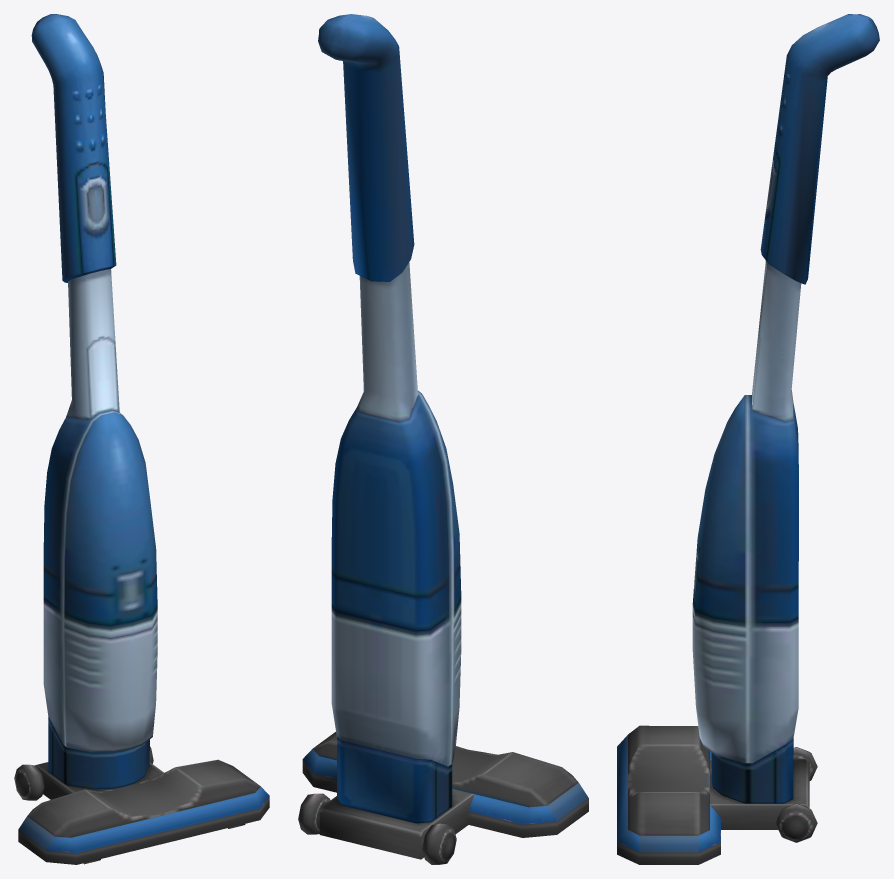
Rendered from int_oth_cleaner_stick.dae.
3 views of the same model, side by side, from view 1: azimuth 30°, elevation 25°; view 2: azimuth 150°, elevation 25°; view 3: azimuth 270°, elevation 25° (orthographic). The views are drawn at different scales.
Visible parts, largest first — view 1: int_oth_cleaner_stick; view 2: int_oth_cleaner_stick; view 3: int_oth_cleaner_stick.
Boxes of the visible parts, bbox=[...] form: int_oth_cleaner_stick: bbox=[14, 14, 269, 864]; int_oth_cleaner_stick: bbox=[298, 14, 588, 864]; int_oth_cleaner_stick: bbox=[617, 14, 879, 864].
Size of the model in its own units: 14.31 by 45.98 by 13.71.
Materials: 1 (1 with a texture image).
